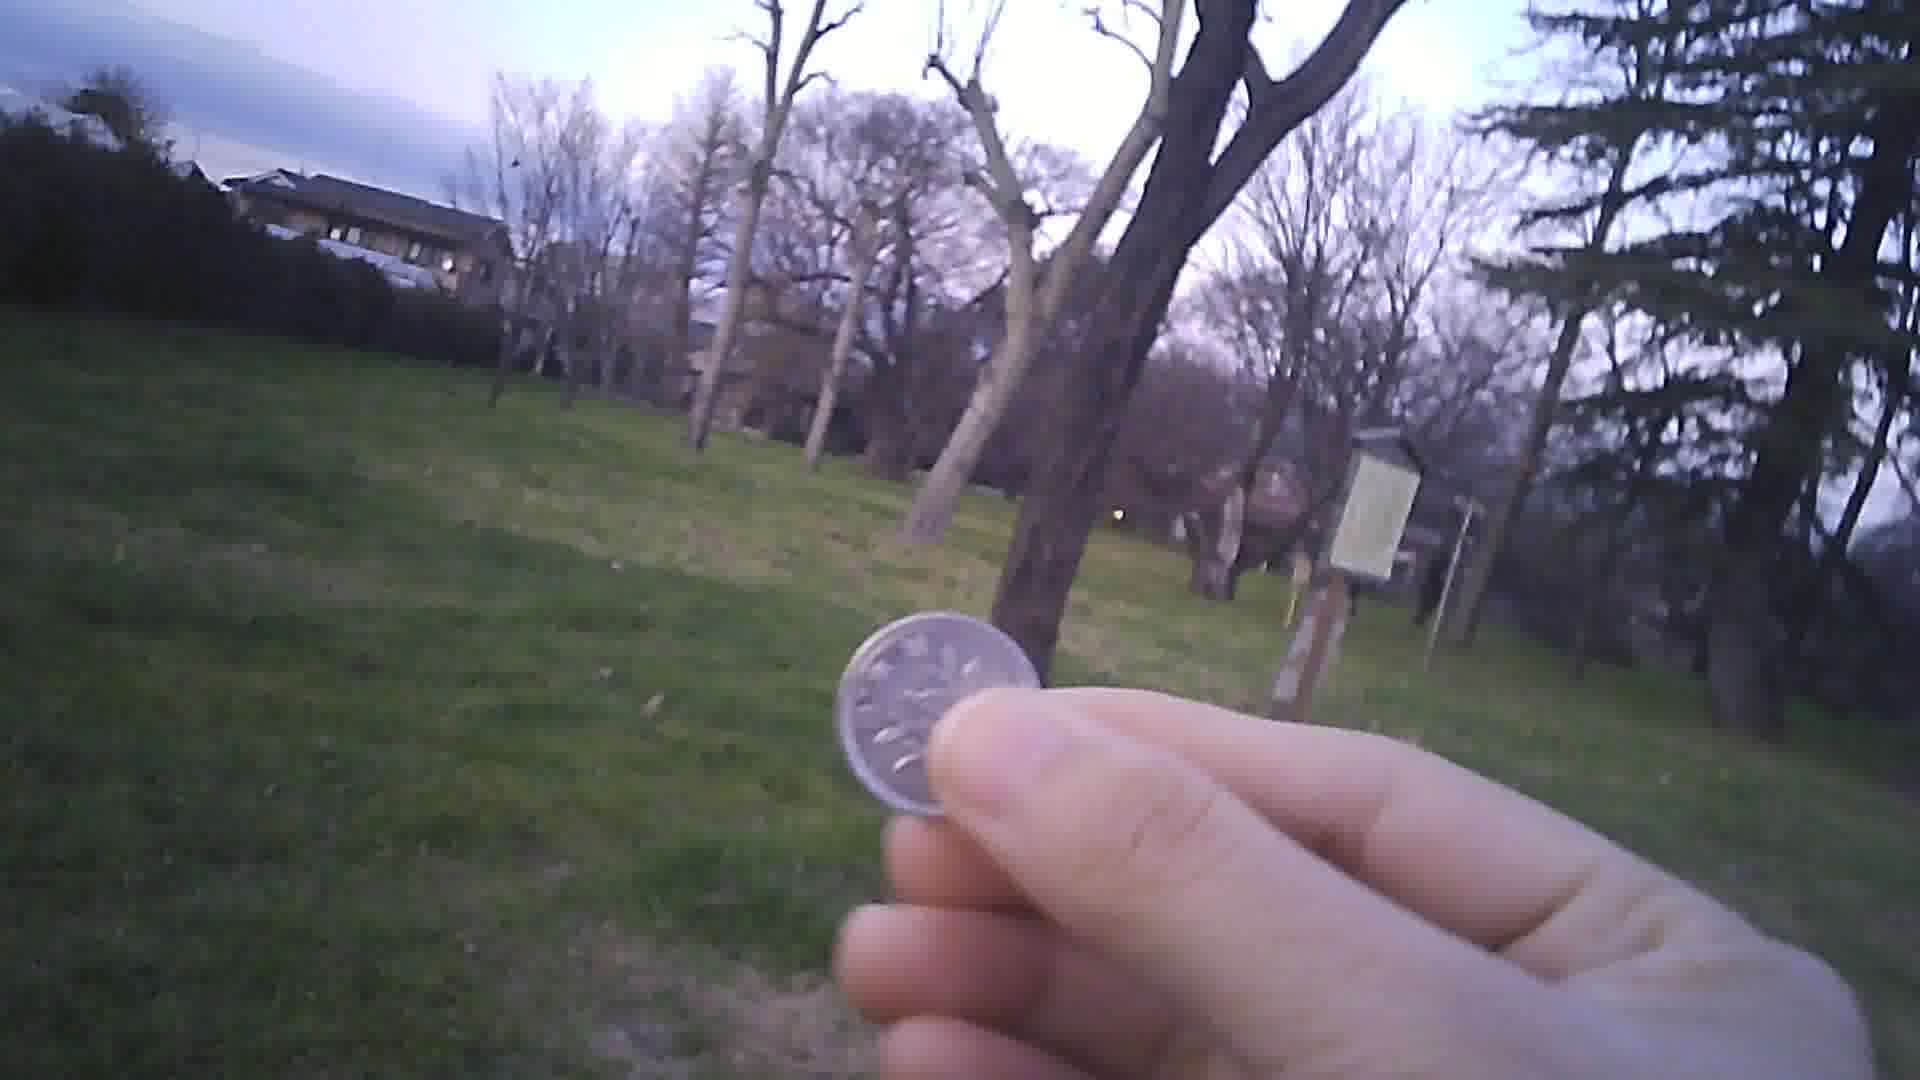1 Yen: (825, 601, 1051, 822)
